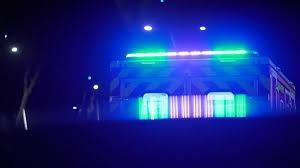AMBULANCE: (86, 17, 288, 98)
